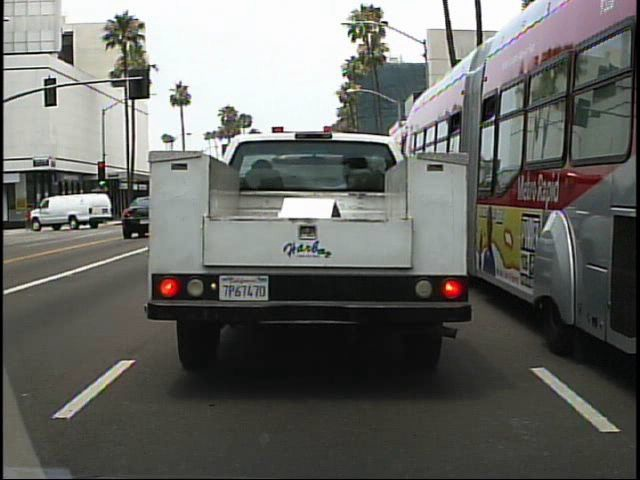person: (27, 204, 36, 237)
